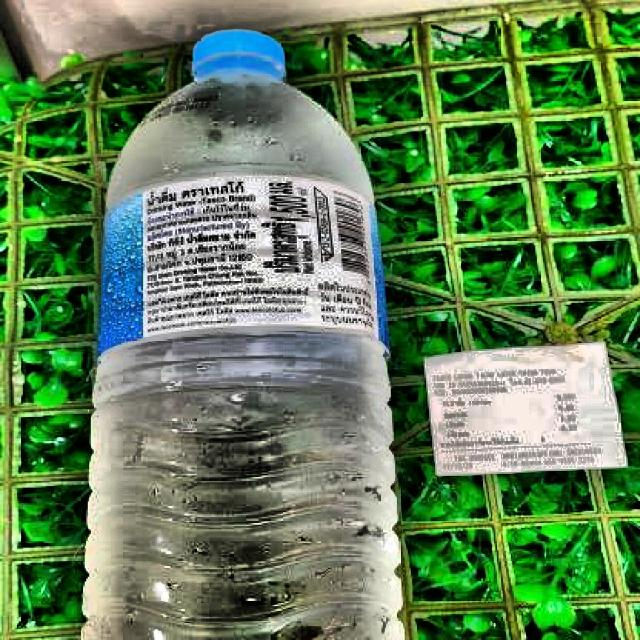plastic bottle: (82, 31, 405, 639)
